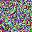baseballfield: (5, 0, 23, 20)
basketballcourt: (9, 9, 24, 28)
